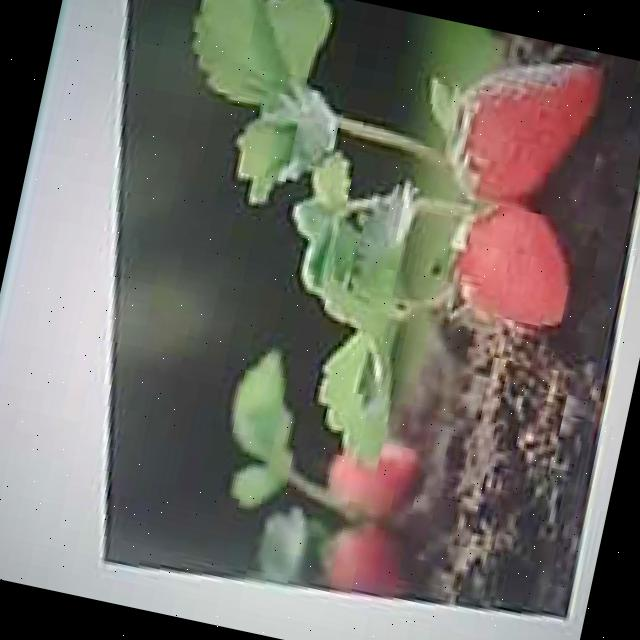strawberry: (442, 42, 598, 214)
